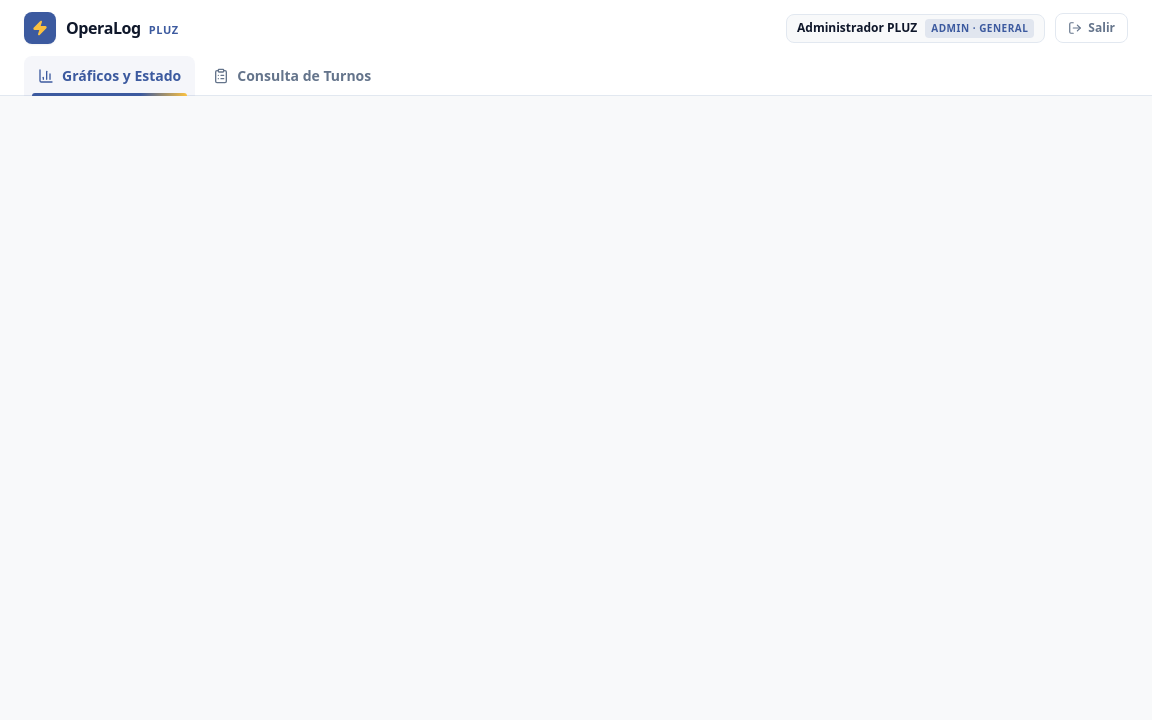
Test: TopNav master history unlock via double-click on logo › hides Catálogos (Admin) when locked and opens password popover on double click
Later steps or results of the test are not shown.
Double-click the button with aria-label "Logo OperaLog" at (101, 28), box [24,12,179,44]
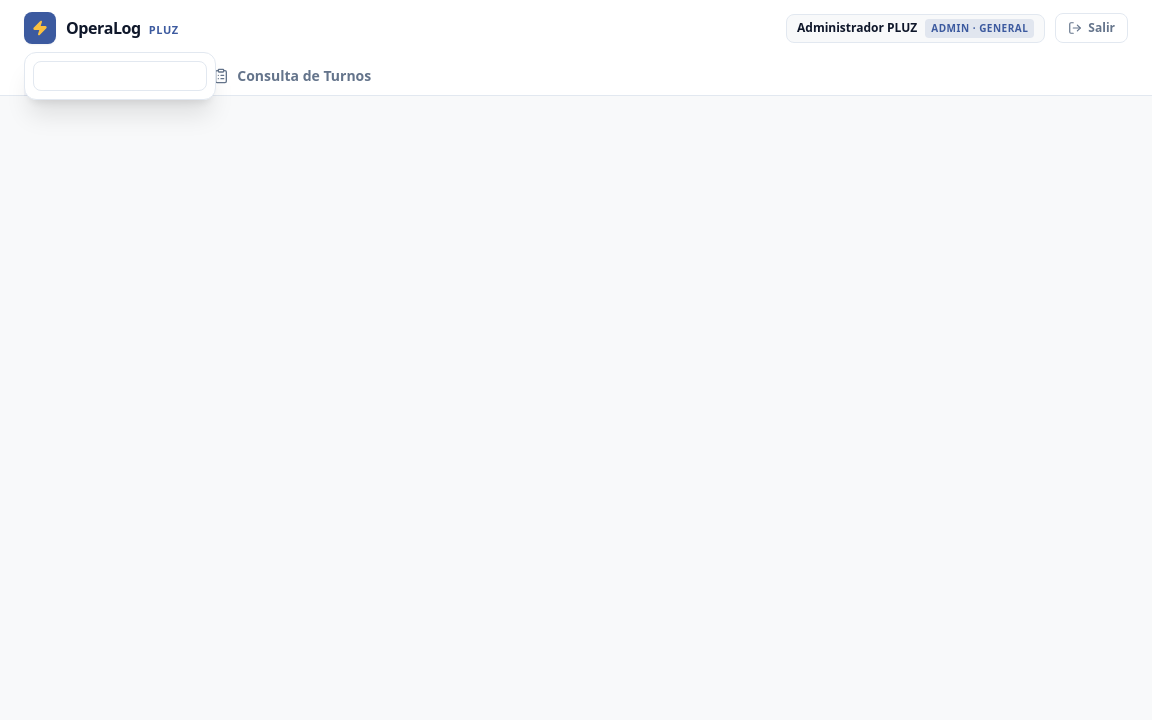
Check: the password field named "Clave" is shown
Type "wrong" into the password field named "Clave" at (120, 76), box [33,61,207,91]
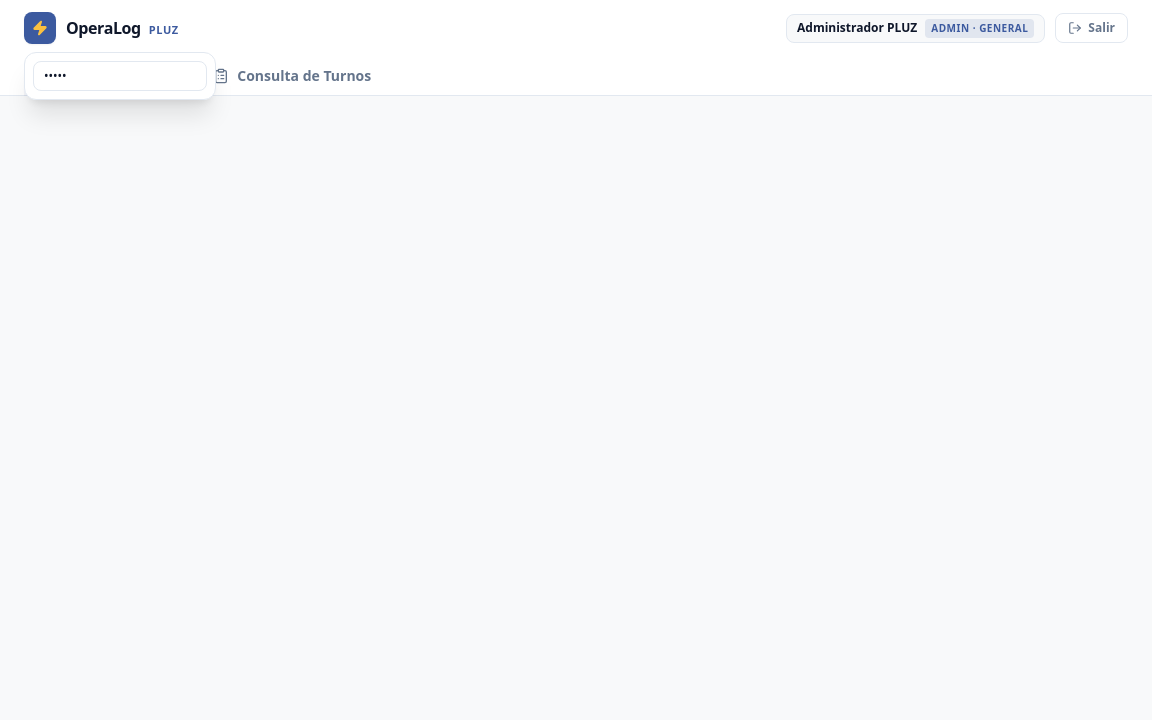
Submit the form named "Clave", box [33,61,207,91]
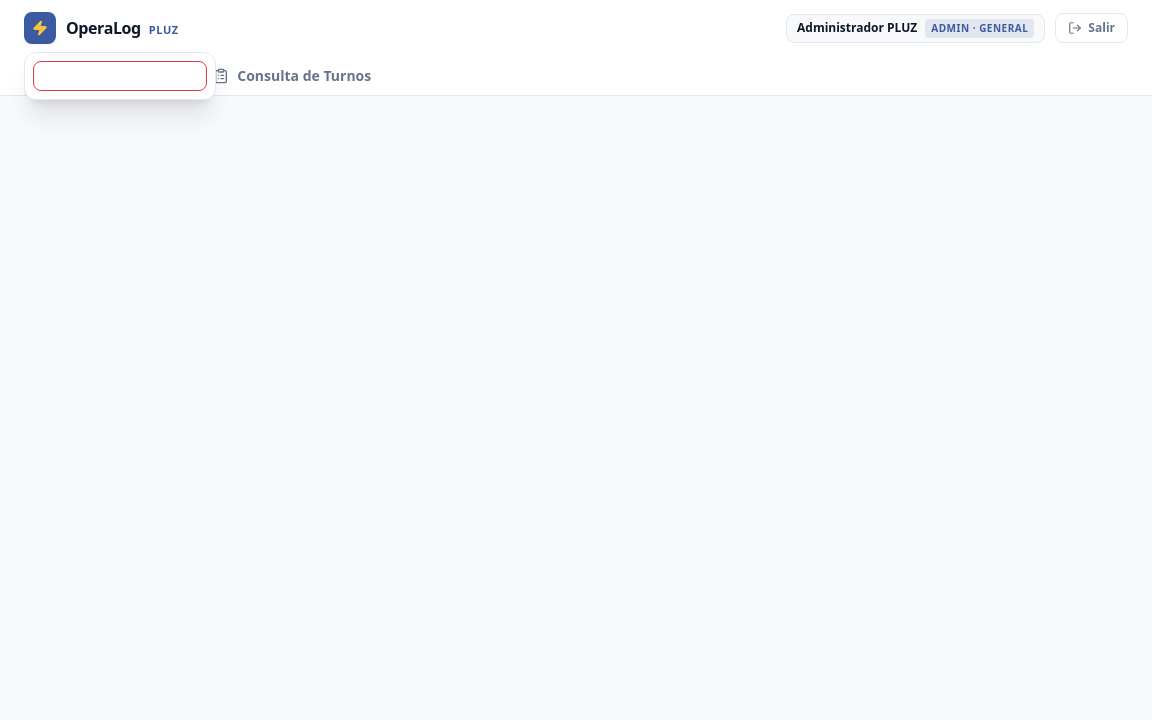
Check: the password field named "Clave" is empty, box [33,61,207,91]
